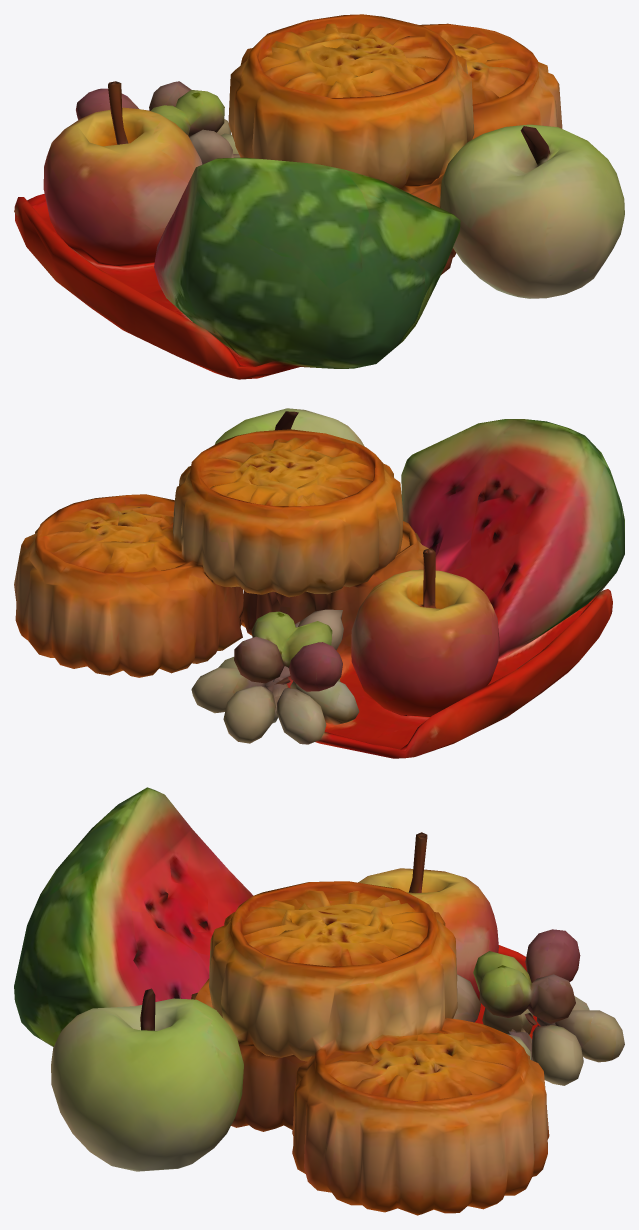
Rendered from yuegong.glb.
3 views of the same model, one above another, from view 1: azimuth 30°, elevation 25°; view 2: azimuth 150°, elevation 25°; view 3: azimuth 270°, elevation 25° (orthographic). The views are drawn at different scales.
Visible parts, largest first — view 1: tripo_node_444a916a-b473-4dc6-8c7b-8723a5c4d6b3; view 2: tripo_node_444a916a-b473-4dc6-8c7b-8723a5c4d6b3; view 3: tripo_node_444a916a-b473-4dc6-8c7b-8723a5c4d6b3.
Part boxes in pixels (bbox=[...]): tripo_node_444a916a-b473-4dc6-8c7b-8723a5c4d6b3: bbox=[14, 14, 624, 379]; tripo_node_444a916a-b473-4dc6-8c7b-8723a5c4d6b3: bbox=[14, 408, 624, 758]; tripo_node_444a916a-b473-4dc6-8c7b-8723a5c4d6b3: bbox=[14, 787, 624, 1215].
Size of the model in its own units: 2.61 by 1 by 2.63.
1 material, 1 textured.
